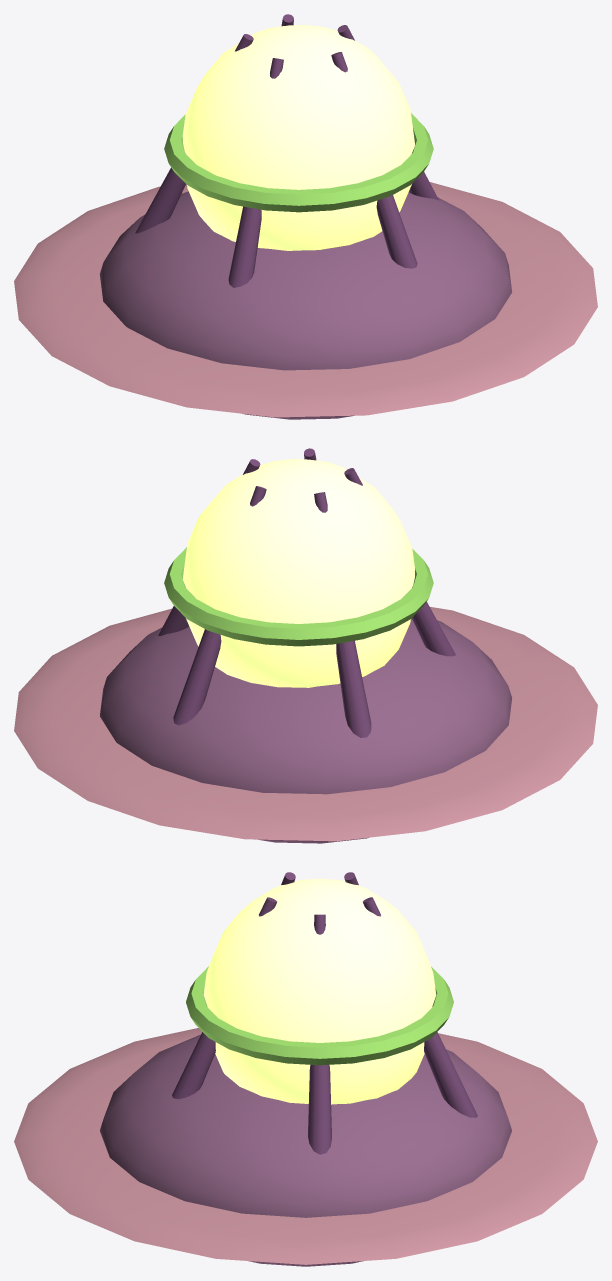
File: power_ins.glb
3 renders of one model, top to bottom at view 1: azimuth 30°, elevation 25°; view 2: azimuth 150°, elevation 25°; view 3: azimuth 270°, elevation 25°, orthographic.
Visible parts, largest first — view 1: power_ins; view 2: power_ins; view 3: power_ins.
Part boxes in pixels (x1,y1,x2,y2): power_ins: (14,14,597,419); power_ins: (14,448,597,843); power_ins: (14,872,597,1266).
Size of the model in its own units: 2.09 by 1.35 by 2.09.
